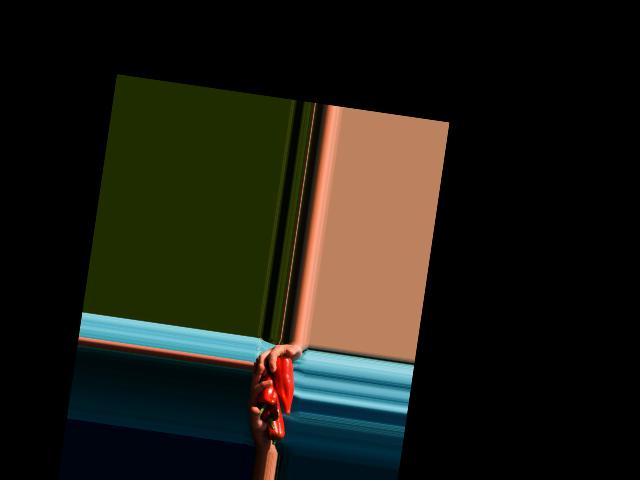bell_pepper: (262, 406, 288, 446)
